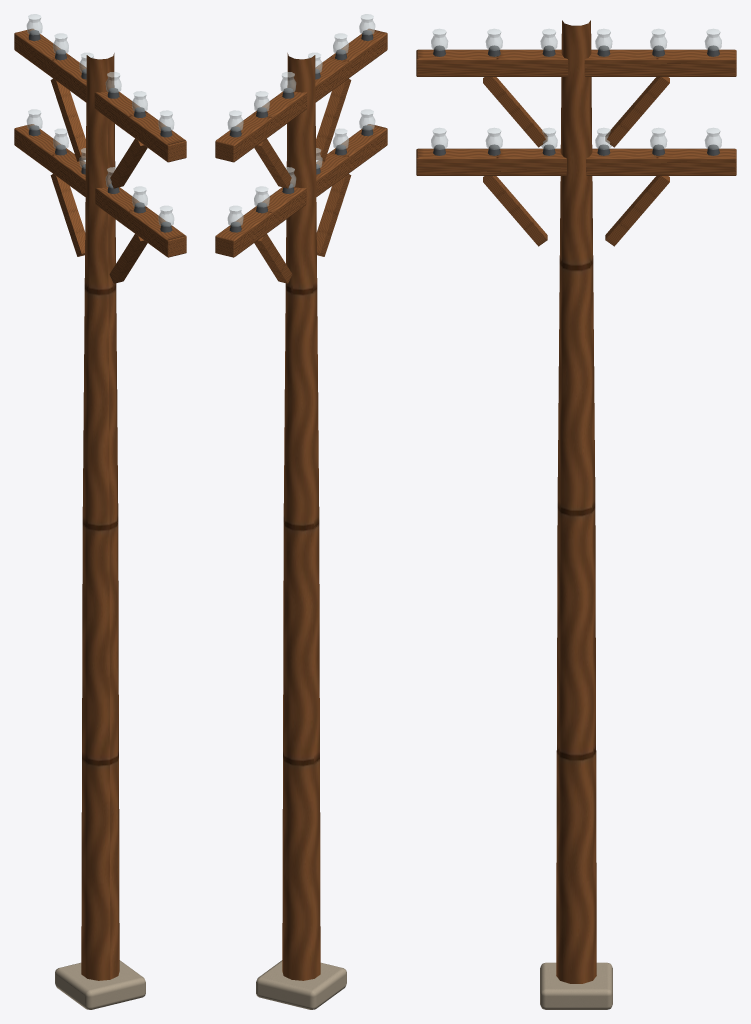
The model's file is wild-west-frontier-town-telegraph-pole-0f097e19__30102.glb.
3 views of the same model, side by side, from view 1: azimuth 30°, elevation 25°; view 2: azimuth 150°, elevation 25°; view 3: azimuth 270°, elevation 25° (orthographic). The views are drawn at different scales.
Visible parts, largest first — view 1: telegraph-pole; view 2: telegraph-pole; view 3: telegraph-pole.
Boxes of the visible parts, bbox=[...] form: telegraph-pole: bbox=[14, 14, 186, 1009]; telegraph-pole: bbox=[215, 14, 387, 1009]; telegraph-pole: bbox=[416, 20, 736, 1009].
Bounding box in the file's own units: 0.5 × 7.4 × 2.2.
4 materials, 2 textured.
